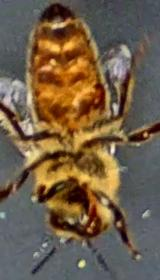varroa_mite: (84, 77, 111, 112)
